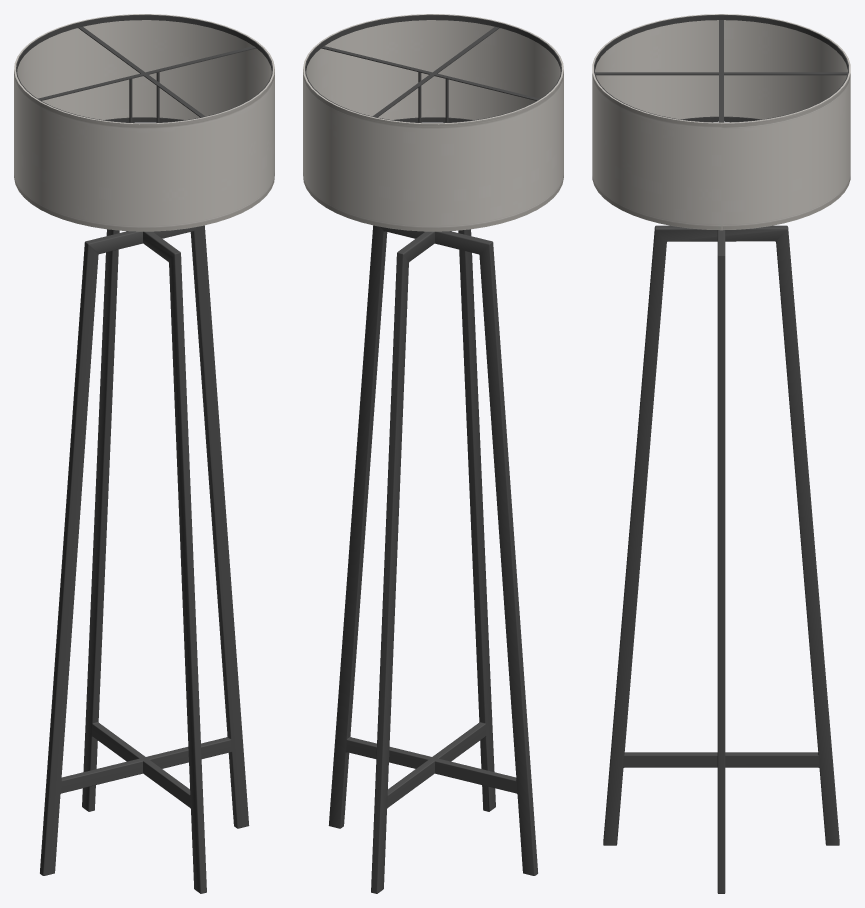
The model's file is B07376VCCW.glb.
3 renders of one model, left to right at view 1: azimuth 30°, elevation 25°; view 2: azimuth 150°, elevation 25°; view 3: azimuth 270°, elevation 25°, orthographic.
Parts seen in each view (by area): view 1: RootNode; view 2: RootNode; view 3: RootNode.
Part boxes in pixels (bbox=[...]): RootNode: bbox=[14, 14, 274, 893]; RootNode: bbox=[303, 14, 563, 893]; RootNode: bbox=[592, 14, 850, 893].
Size of the model in its own units: 0.4571 by 1.51 by 0.4562.
Materials: 1 (1 with a texture image).
